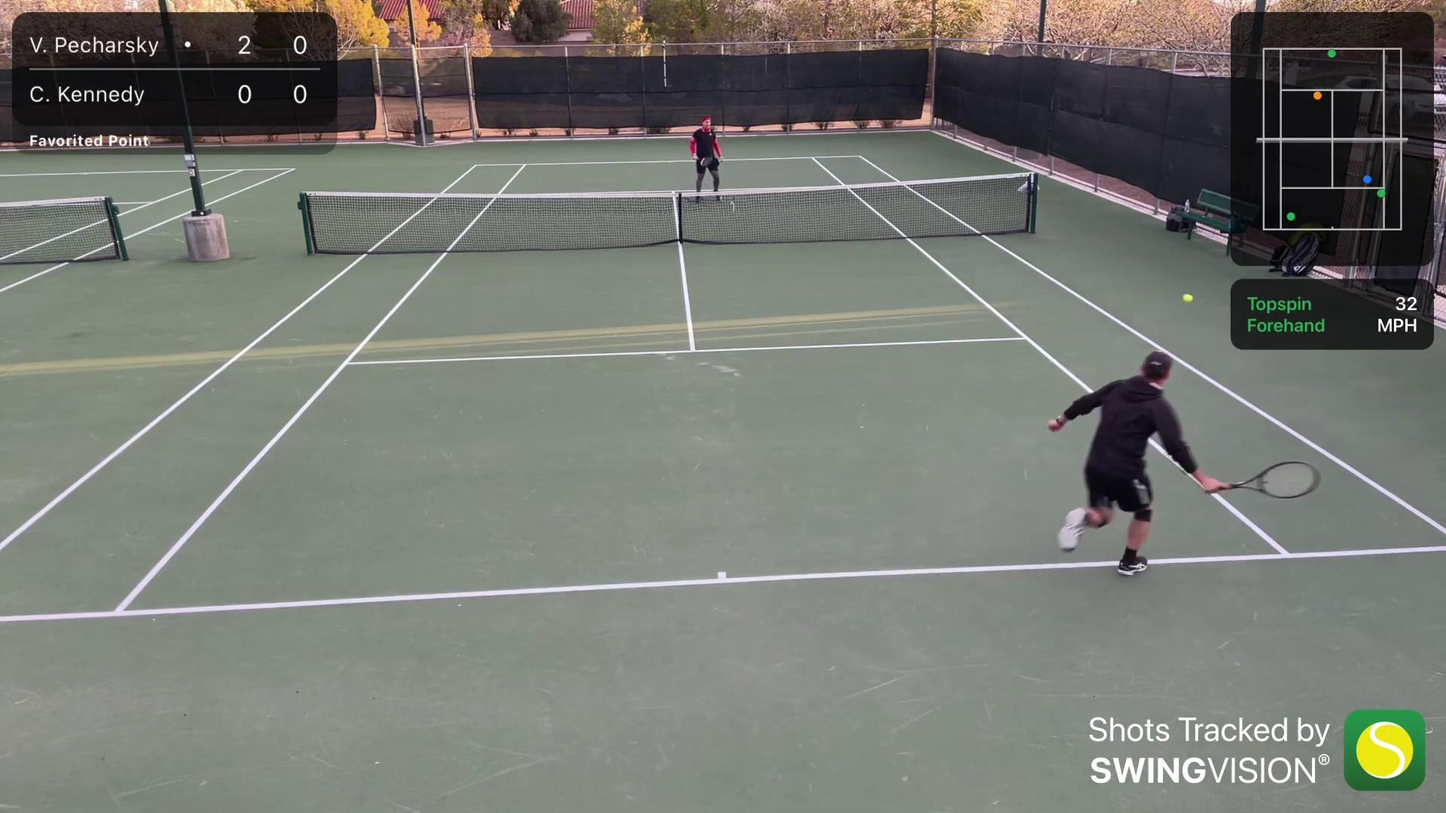ball: (1181, 290, 1195, 303)
